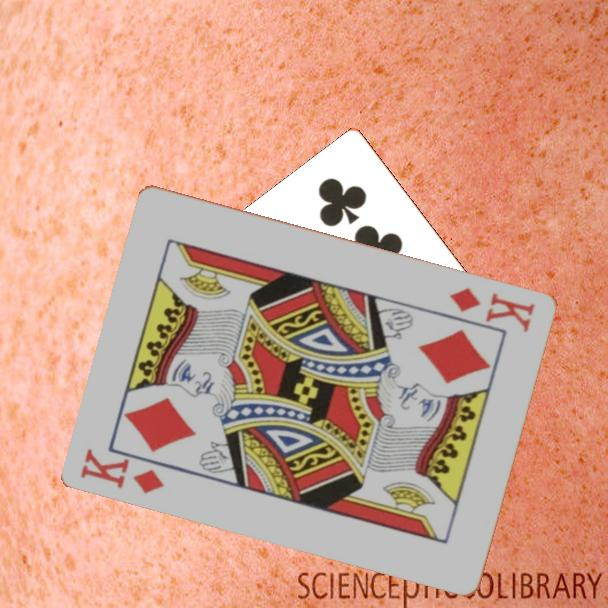d13: (447, 283, 538, 335), (77, 445, 168, 497)
